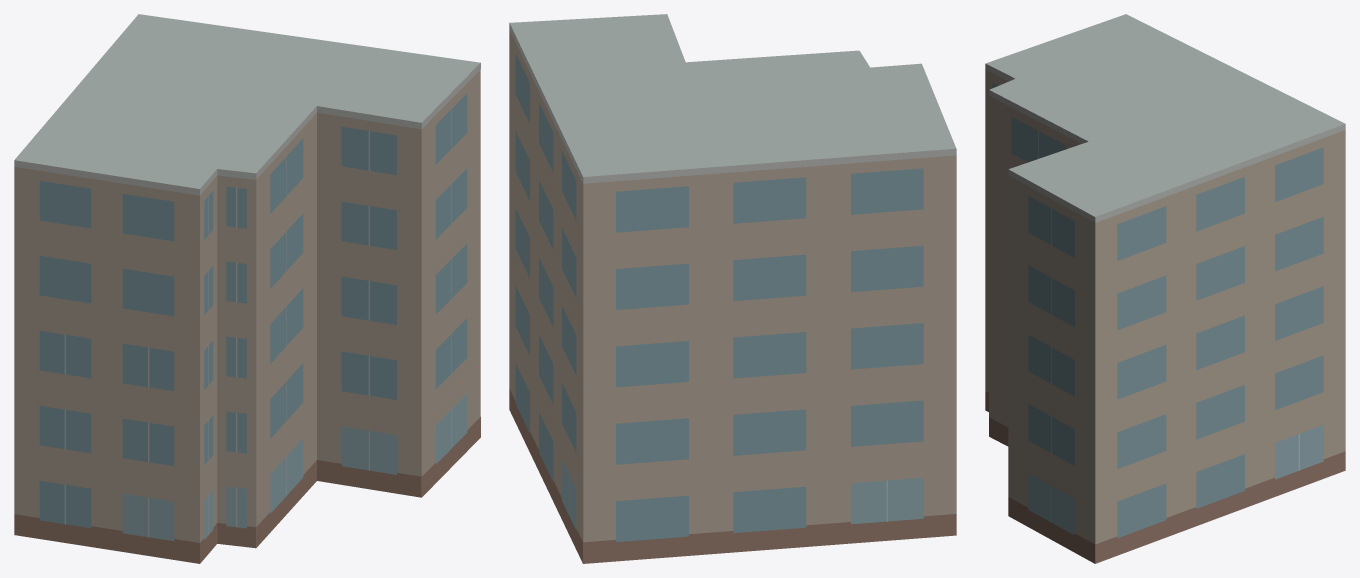
File: survey-upis-32577776.glb
3 renders of one model, left to right at view 1: azimuth 30°, elevation 25°; view 2: azimuth 150°, elevation 25°; view 3: azimuth 270°, elevation 25°, orthographic. The views are drawn at different scales.
Parts seen in each view (by area): view 1: survey-upis-32577776.tmp; view 2: survey-upis-32577776.tmp; view 3: survey-upis-32577776.tmp.
Part boxes in pixels (x1=…): survey-upis-32577776.tmp: x1=14, y1=14, x2=480, y2=563; survey-upis-32577776.tmp: x1=509, y1=14, x2=956, y2=563; survey-upis-32577776.tmp: x1=985, y1=14, x2=1345, y2=563.
Size of the model in its own units: 17.66 by 14.05 by 13.24.
